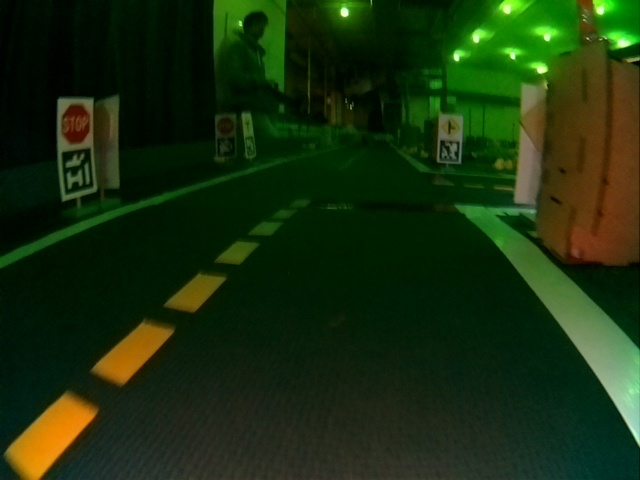Duckie: (495, 160, 502, 169)
Intersection sign: (441, 118, 460, 136), (243, 115, 253, 134)
QR code: (62, 149, 96, 193), (441, 140, 459, 160), (217, 141, 235, 158), (246, 138, 256, 155)
Stop sign: (60, 101, 89, 143), (218, 117, 233, 134)
